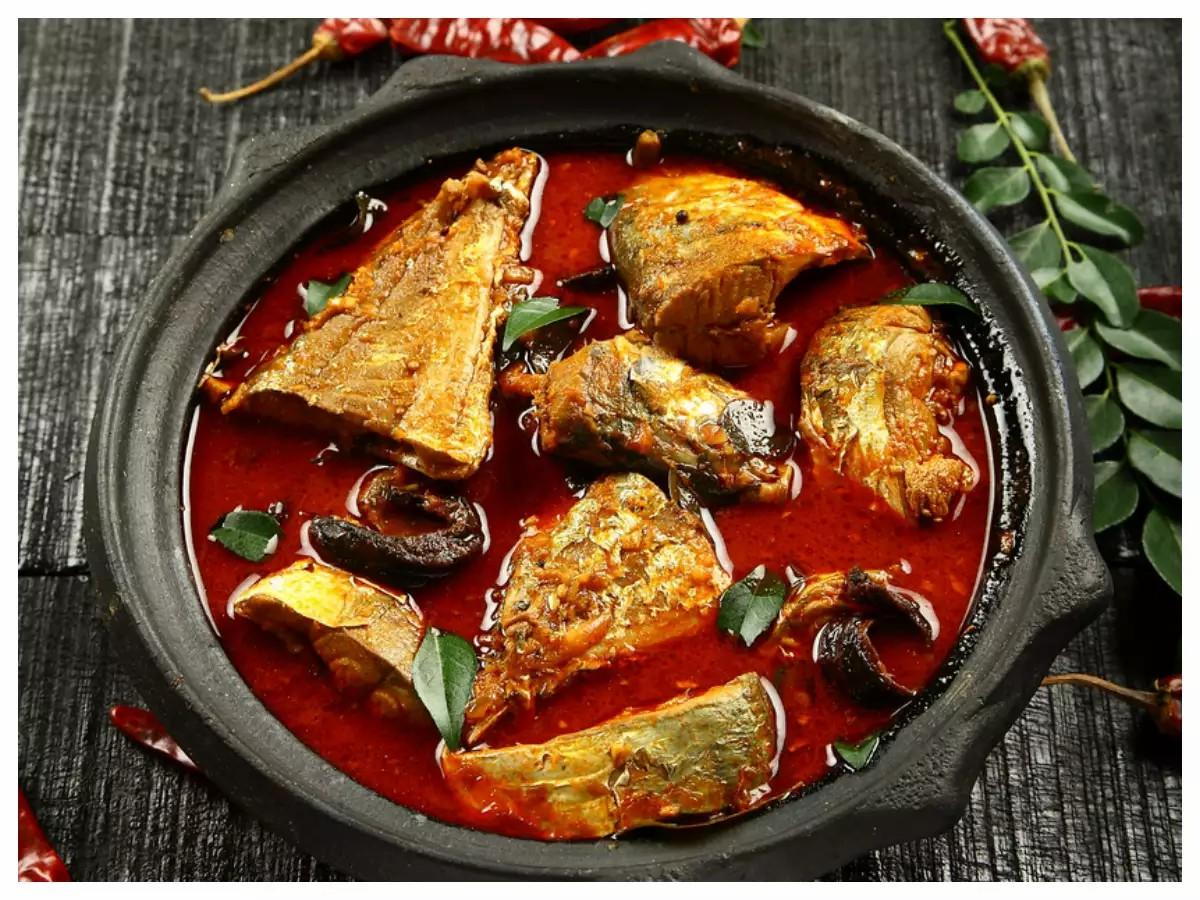FishCurry: (166, 139, 997, 836)
